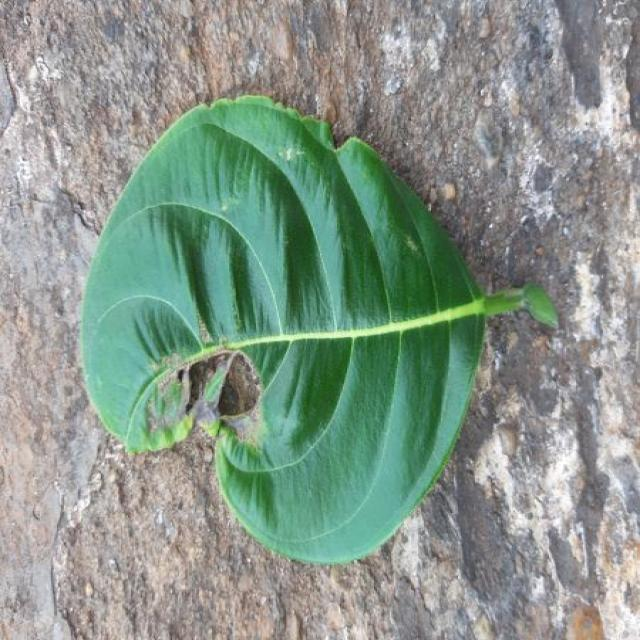Jackfruit: (83, 96, 557, 563)
